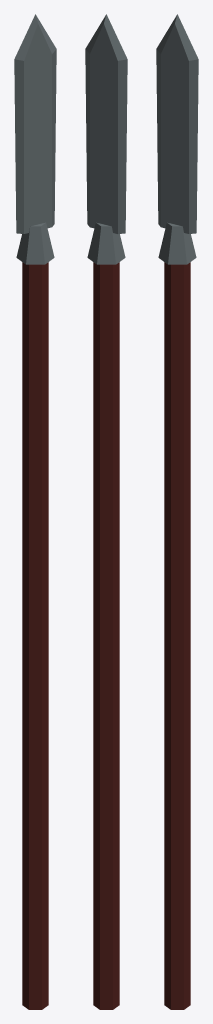
The model's file is spear.glb.
The picture shows the model from 3 angles, left to right: view 1: azimuth 30°, elevation 25°; view 2: azimuth 150°, elevation 25°; view 3: azimuth 330°, elevation 25°; orthographic projection.
Parts seen in each view (by area): view 1: spear.001; view 2: spear.001; view 3: spear.001.
Boxes of the visible parts, left/top/right/bottom form: spear.001: left=14, top=14, right=56, bottom=1009; spear.001: left=85, top=14, right=127, bottom=1009; spear.001: left=156, top=14, right=198, bottom=1009.
Size of the model in its own units: 0.1183 by 2.65 by 0.0923.
